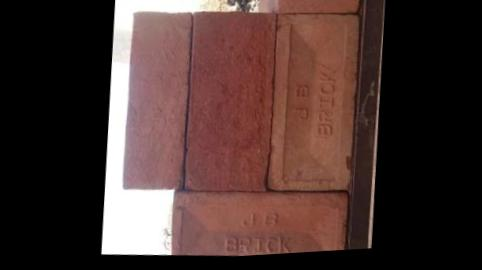brick: (179, 5, 281, 197), (264, 9, 361, 193), (167, 179, 350, 260), (118, 7, 193, 195), (274, 0, 363, 18)
